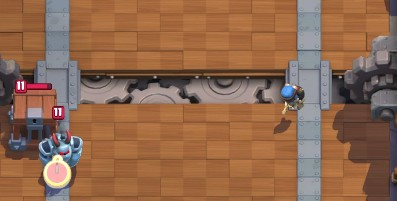bat: (274, 79, 310, 118)
mortar: (6, 88, 59, 150)
skeletondragon: (34, 128, 85, 170)
tower: (12, 77, 56, 96)
